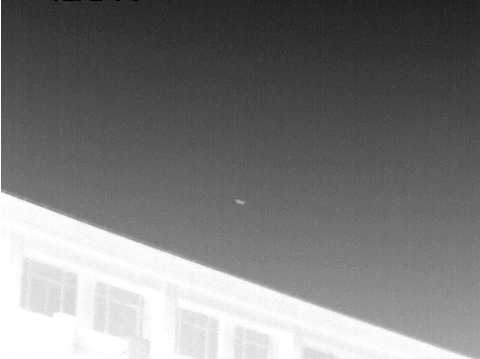dim target: (234, 198, 245, 206)
